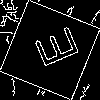E: (25, 25, 80, 73)
